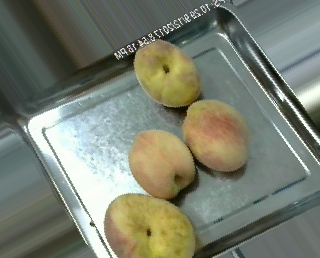Peach: (104, 193, 195, 258), (183, 99, 249, 172), (127, 129, 195, 198), (133, 39, 201, 107)
